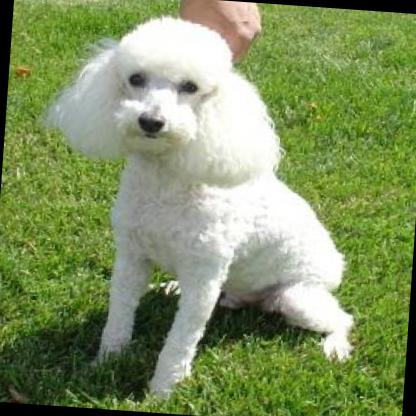miniature_poodle: (20, 4, 374, 408)
